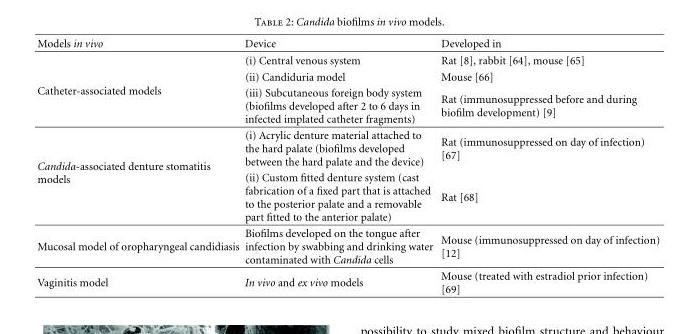table: (36, 37, 659, 294)
table column: (436, 37, 659, 294), (36, 37, 241, 294), (241, 37, 436, 294)
table column header: (36, 37, 659, 51)
table row: (36, 169, 659, 224), (36, 126, 659, 169), (36, 224, 659, 267), (36, 84, 659, 126), (36, 267, 659, 294), (36, 51, 659, 68), (36, 68, 659, 84), (36, 37, 659, 51)
table spanning cell: (36, 126, 241, 224), (36, 51, 241, 126)
